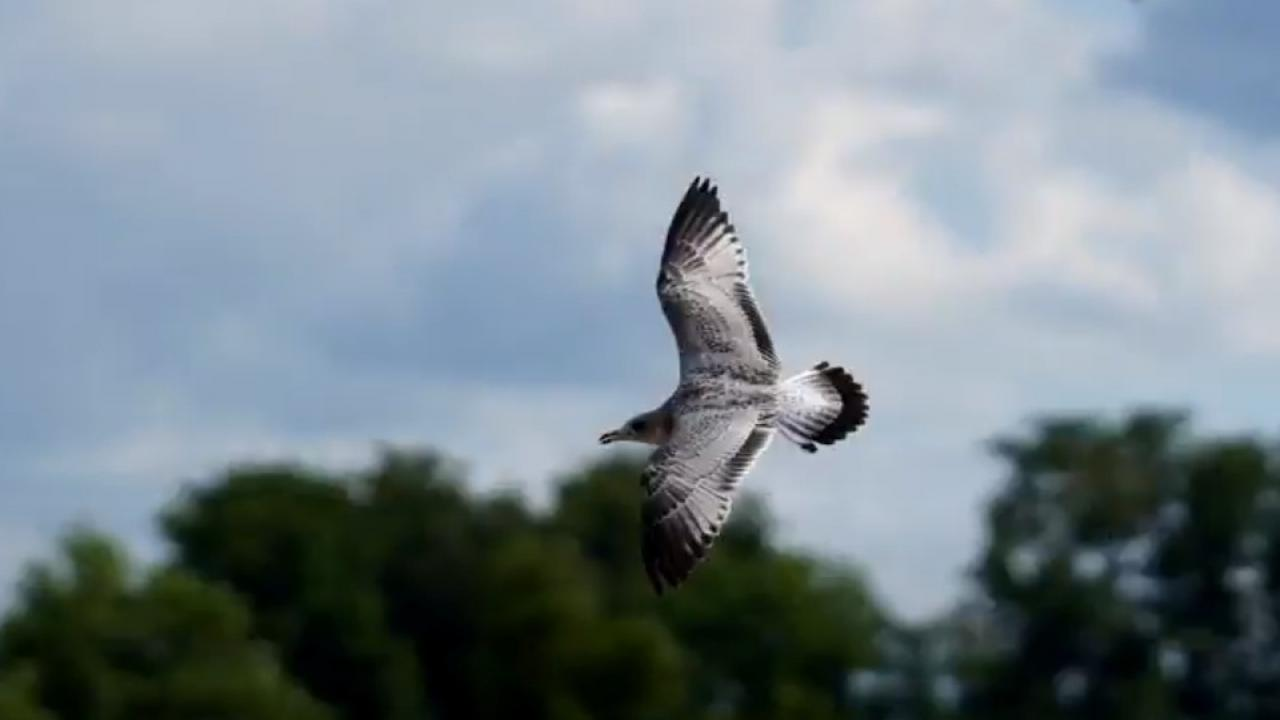Bird: (590, 170, 876, 613)
